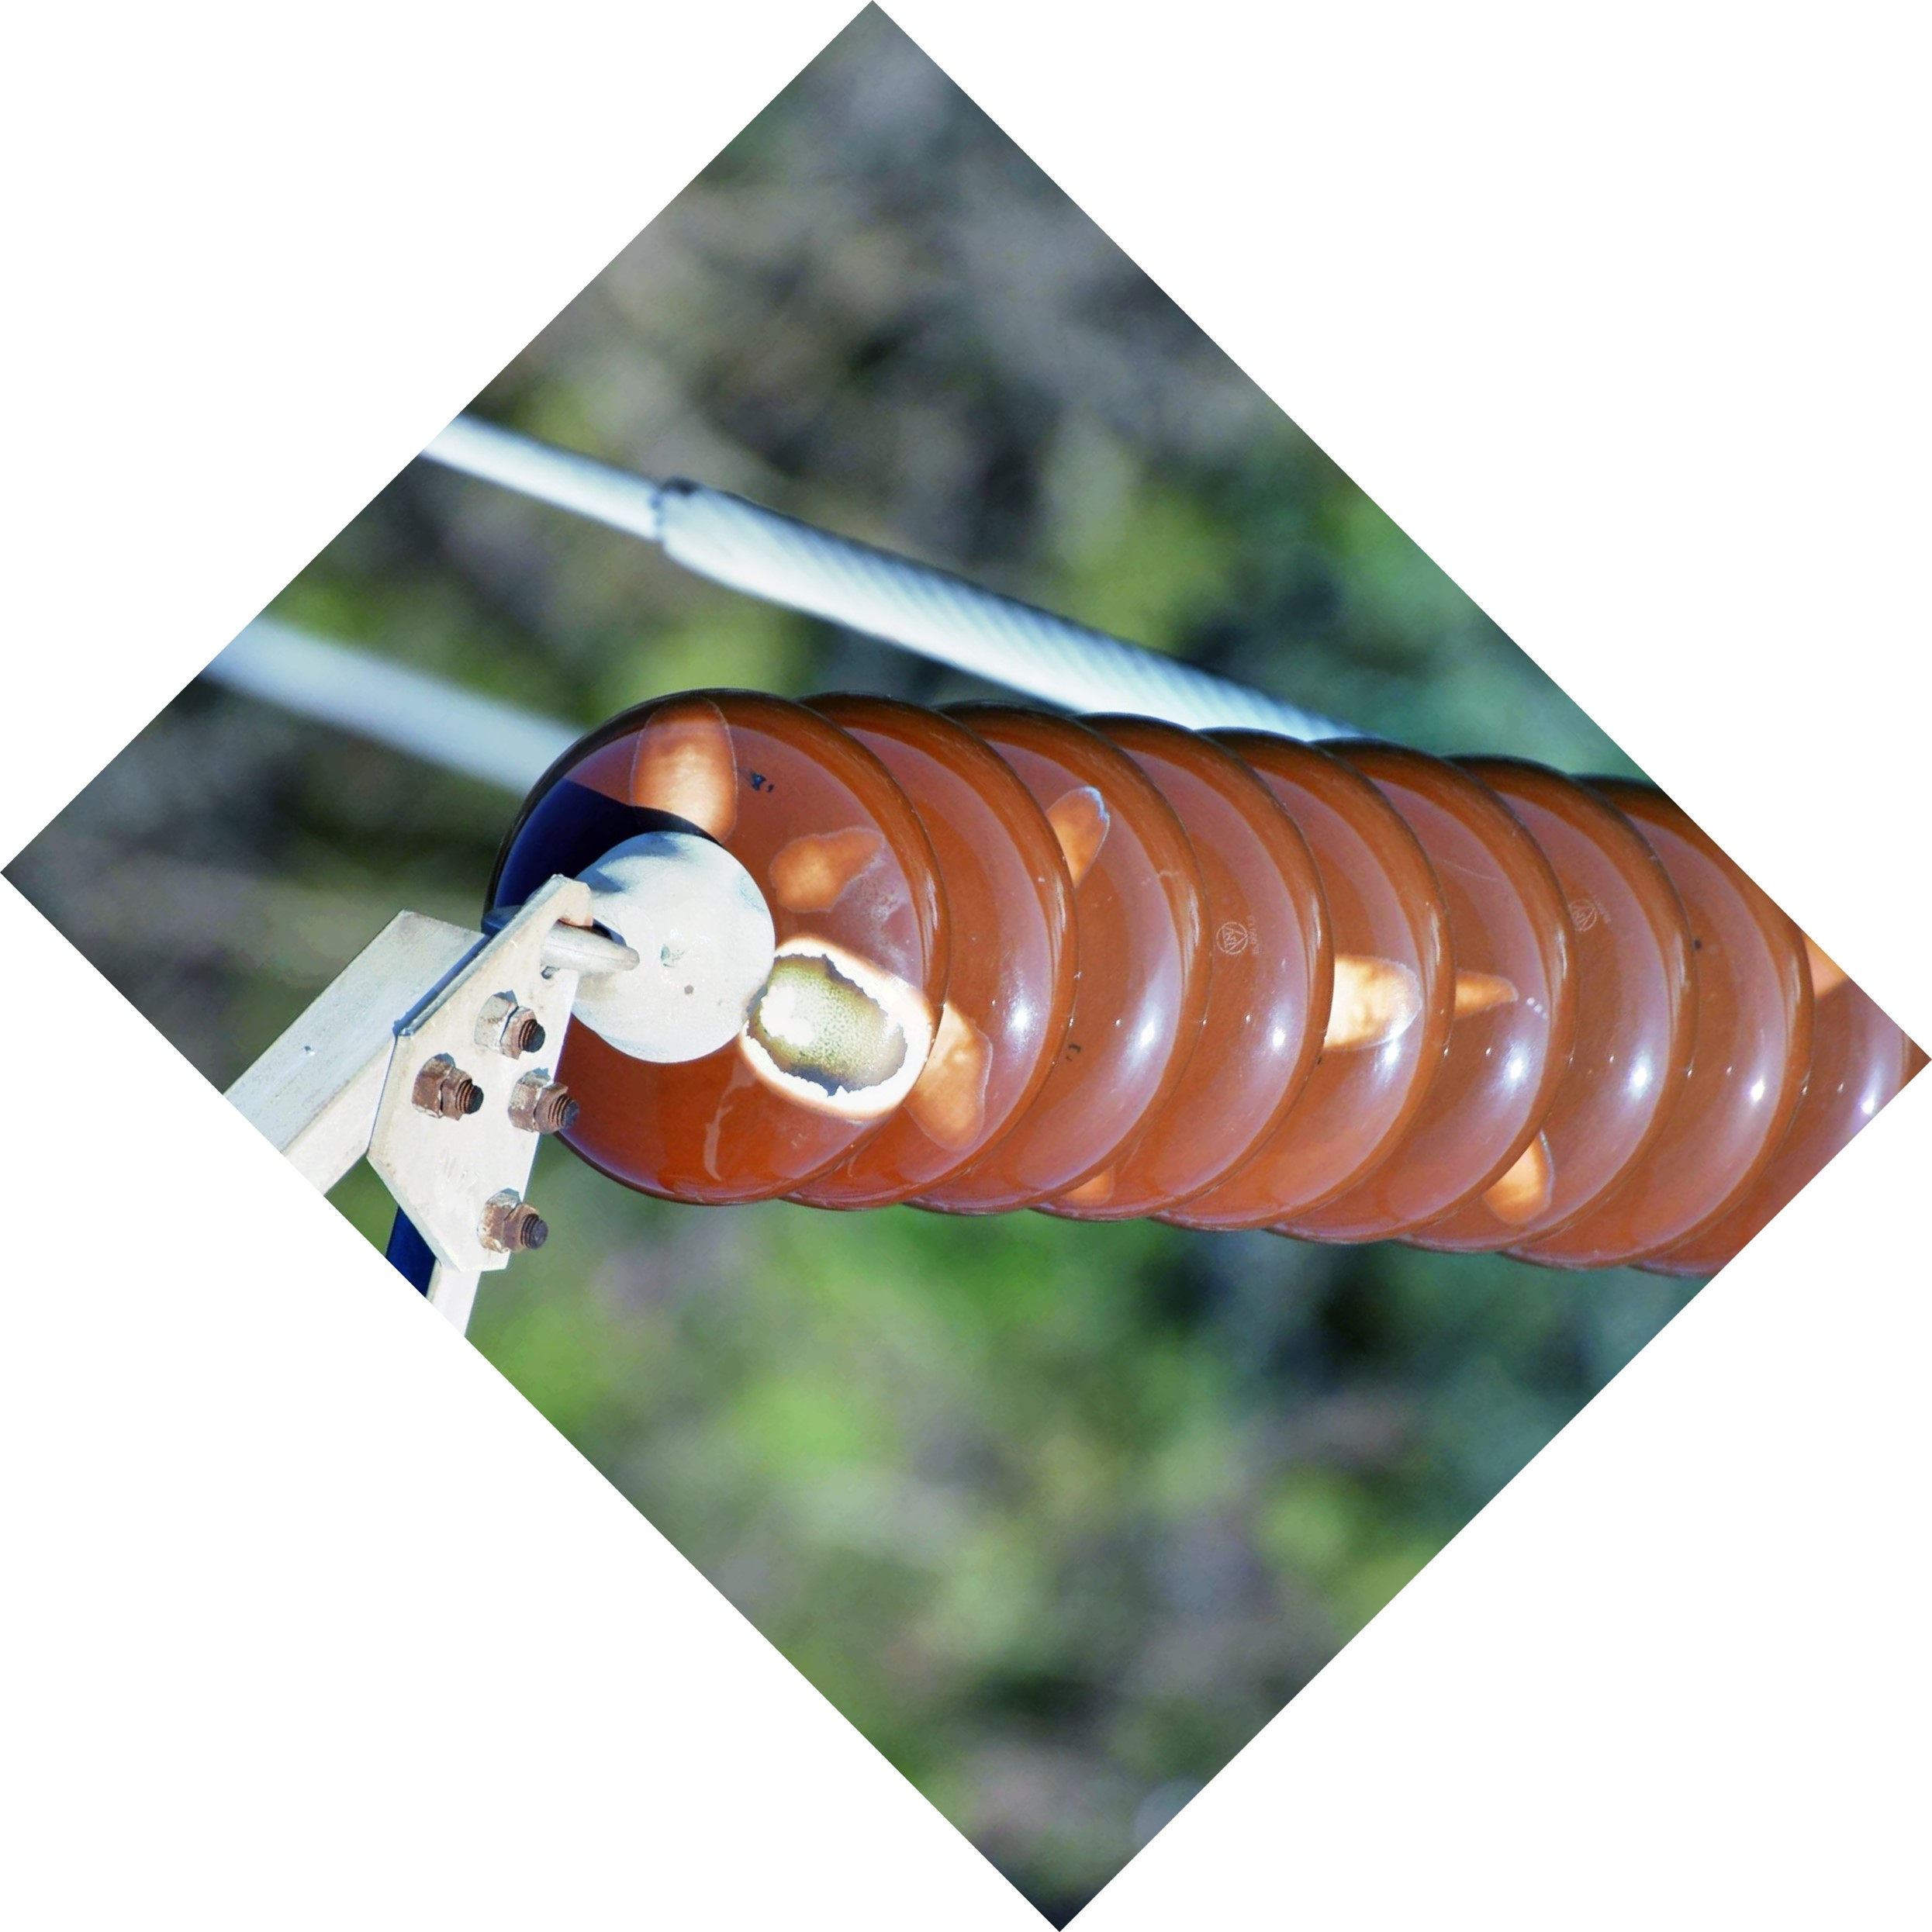Insulator flashover: (451, 671, 962, 1215)
